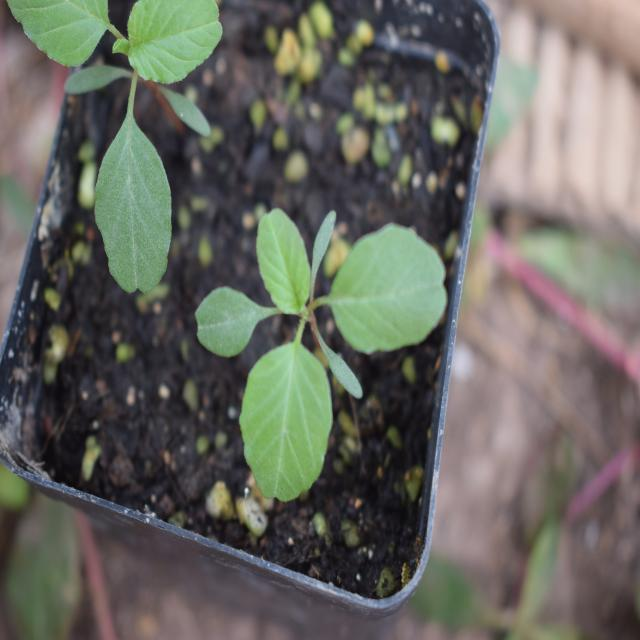pigweed: (180, 203, 438, 498), (4, 0, 233, 282)
